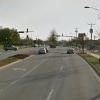Car: (34, 44, 77, 56)
